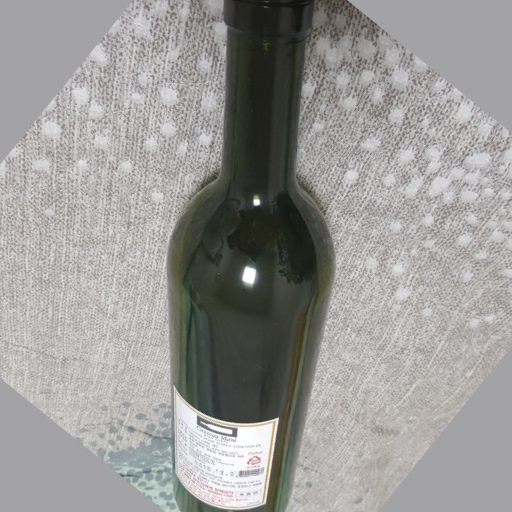Glass_2: (162, 2, 339, 512)
